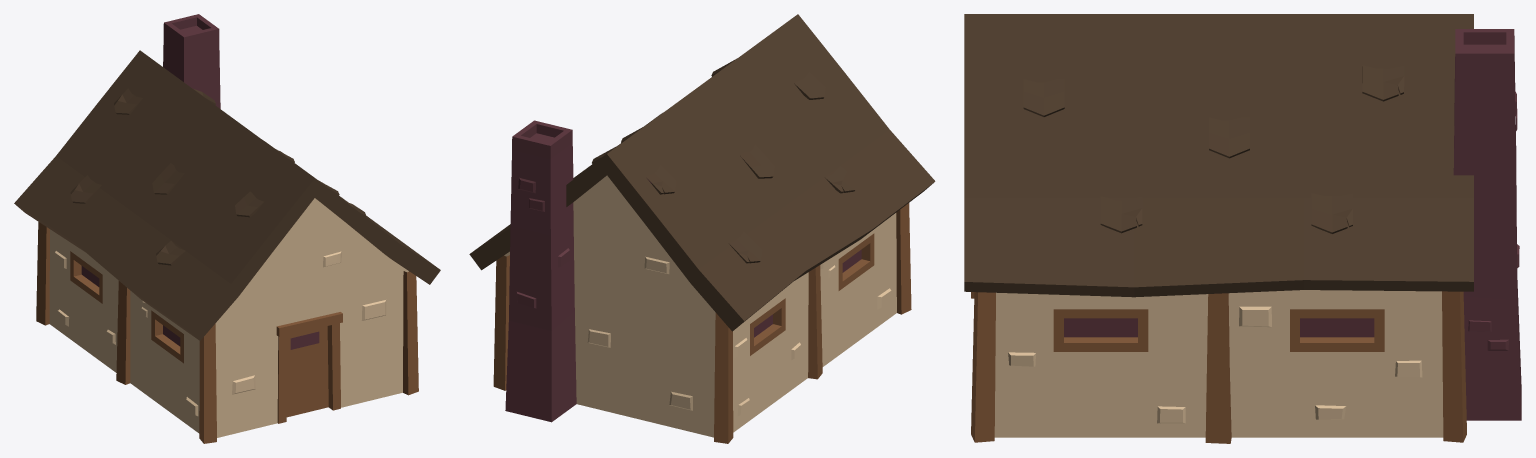
File: house-medieval-small.fbx
3 renders of one model, left to right at view 1: azimuth 30°, elevation 25°; view 2: azimuth 150°, elevation 25°; view 3: azimuth 270°, elevation 25°, orthographic. The views are drawn at different scales.
Visible parts, largest first — view 1: house-medieval-small; view 2: house-medieval-small; view 3: house-medieval-small.
Part boxes in pixels (left/top/right/bottom): house-medieval-small: left=14, top=14, right=440, bottom=443; house-medieval-small: left=469, top=14, right=935, bottom=443; house-medieval-small: left=964, top=14, right=1521, bottom=443.
Size of the model in its own units: 5.45 by 5.11 by 7.07.
